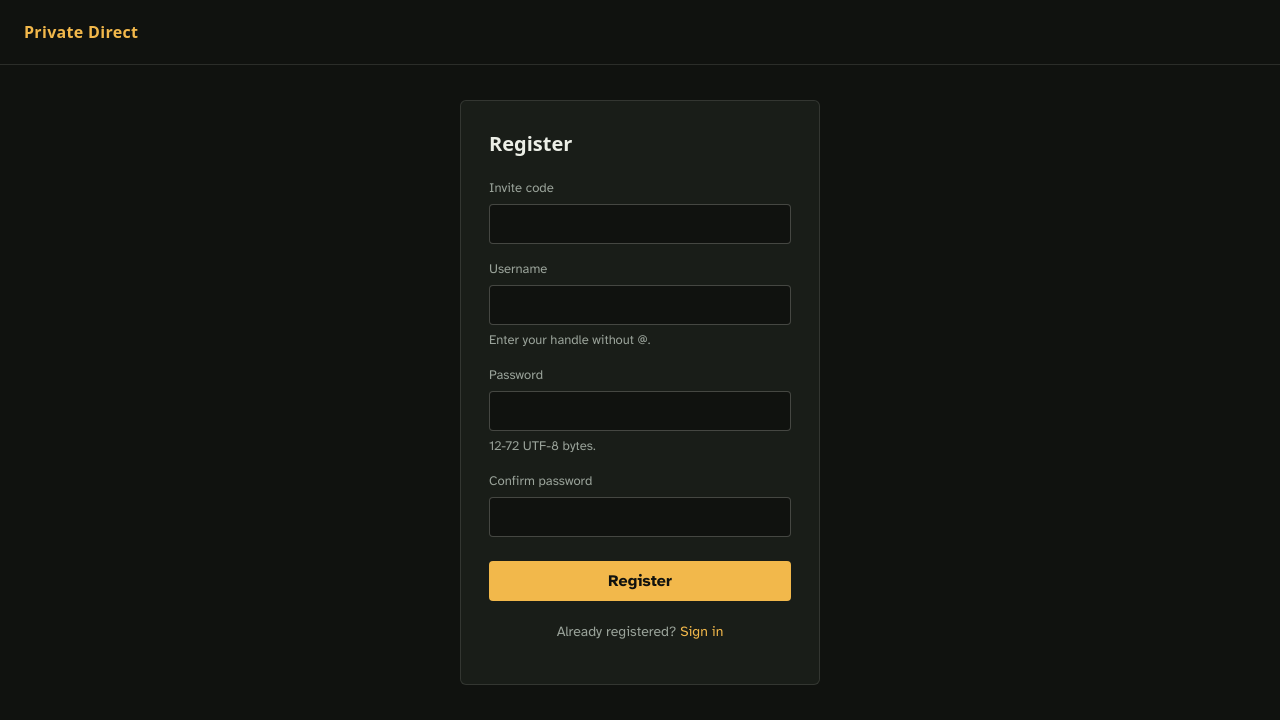
registration flow › clears immediate username feedback when corrected
Step 1. Type "@al" into the field labelled "Username" → (640, 305), box [489,285,791,325]
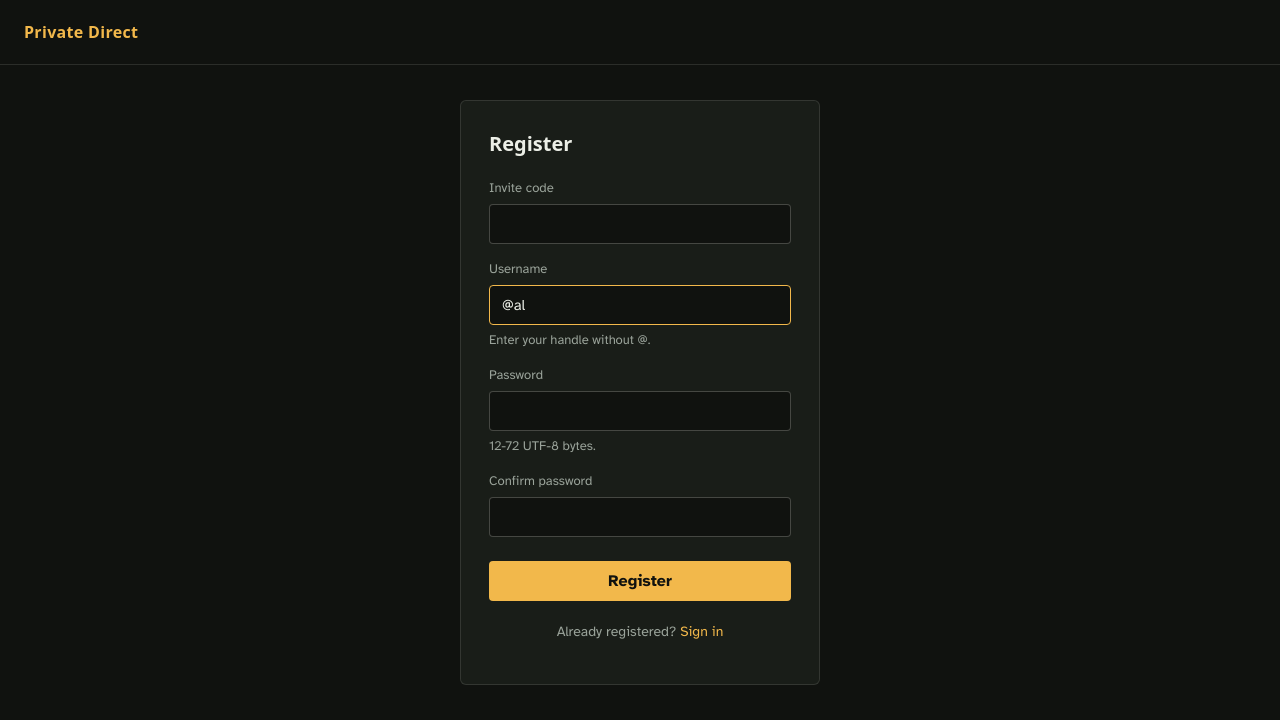
Step 2. Press Tab
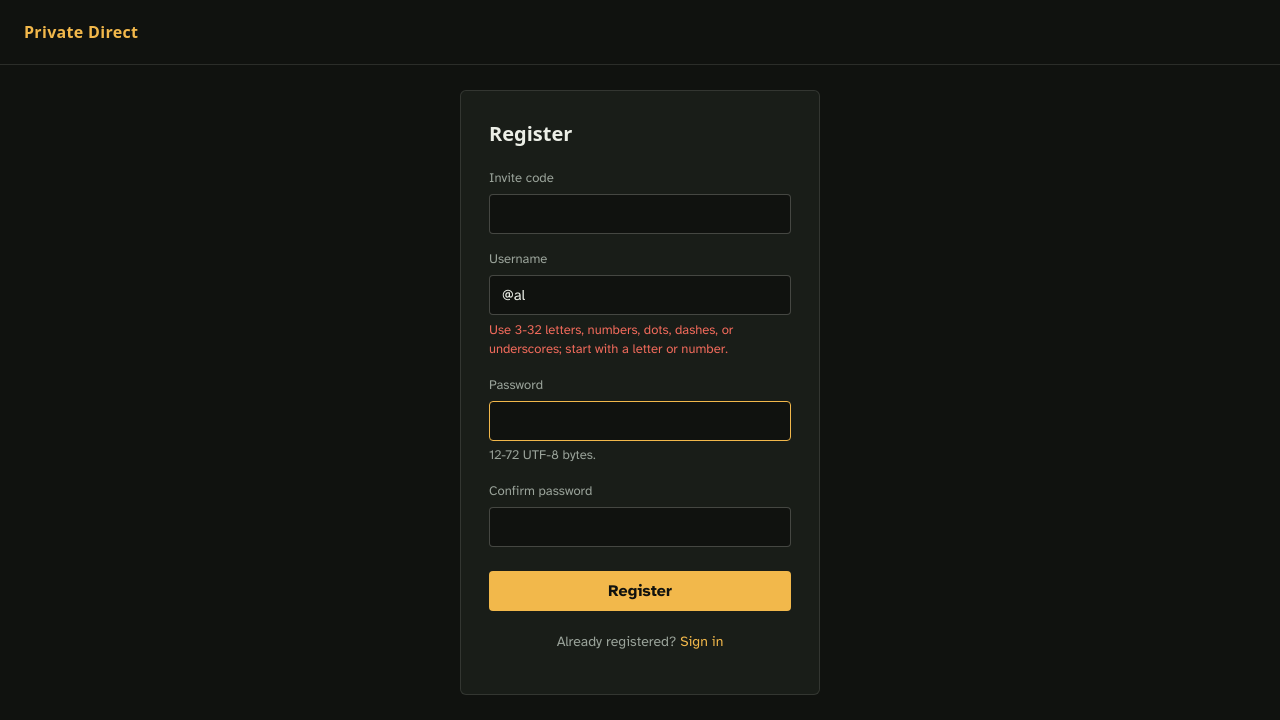
Now the message shows "Use 3-32 letters, numbers, dots, dashes, or underscores", box [489,322,733,357]
Step 3. Replace the text in the field labelled "Username" with "Alice.B" → (640, 295), box [489,275,791,315]
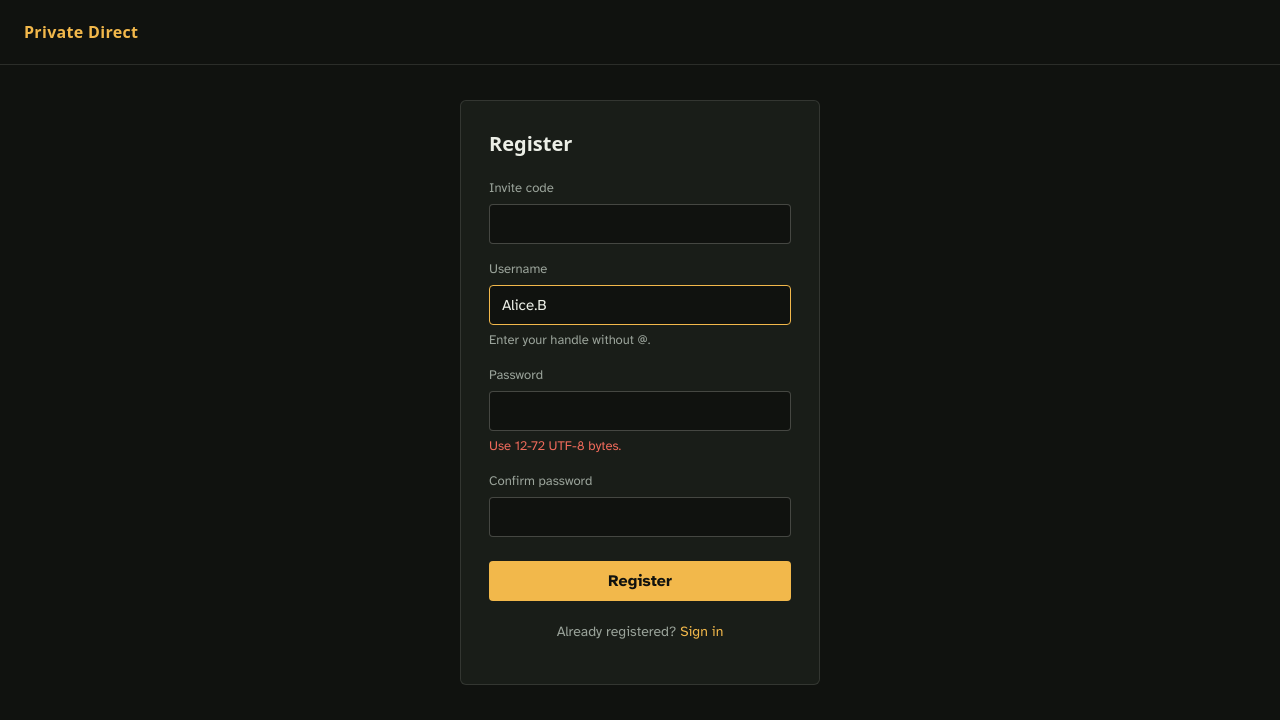
Now the text "Use 3-32 letters, numbers, dots, dashes, or underscores; start with a letter or number." is gone
